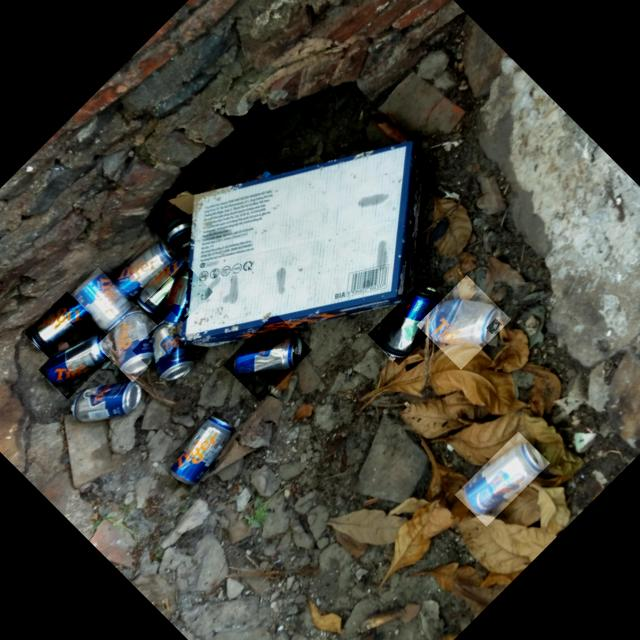Drink can: (462, 442, 542, 515), (169, 416, 232, 486), (382, 286, 439, 358), (114, 239, 175, 299), (44, 334, 111, 388), (72, 272, 130, 331), (427, 299, 500, 345), (29, 296, 89, 350), (136, 251, 186, 315), (232, 336, 301, 379), (70, 381, 139, 423), (150, 321, 193, 382), (113, 311, 153, 373), (159, 265, 188, 327), (157, 210, 190, 250)
Other Carton: (168, 142, 418, 349)
Pop tab: (486, 323, 499, 332), (103, 343, 110, 349), (388, 357, 394, 361), (294, 347, 296, 355)
